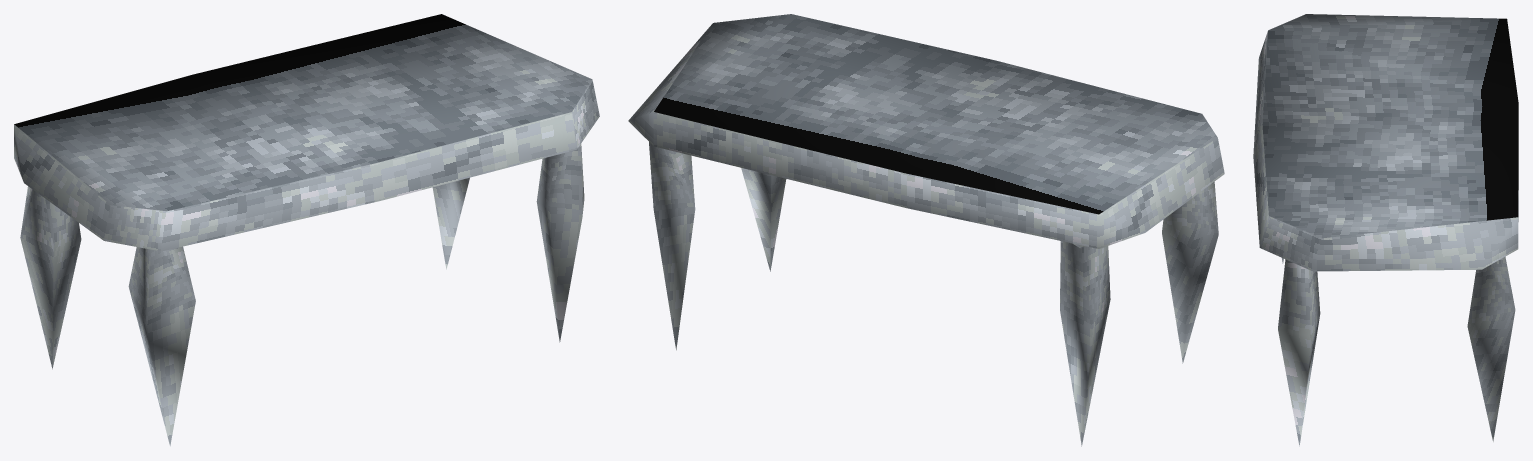
3 renders of one model, left to right at view 1: azimuth 30°, elevation 25°; view 2: azimuth 150°, elevation 25°; view 3: azimuth 270°, elevation 25°, orthographic. The views are drawn at different scales.
Visible parts, largest first — view 1: 3340IMIG12_01; view 2: 3340IMIG12_01; view 3: 3340IMIG12_01.
Boxes of the visible parts, box(x1,y1,x2,y2) form: 3340IMIG12_01: box(14, 14, 599, 446); 3340IMIG12_01: box(628, 14, 1224, 446); 3340IMIG12_01: box(1253, 14, 1518, 446).
Bounding box in the file's own units: 1.96 × 0.9138 × 0.9592.
Materials: 1 (1 with a texture image).
